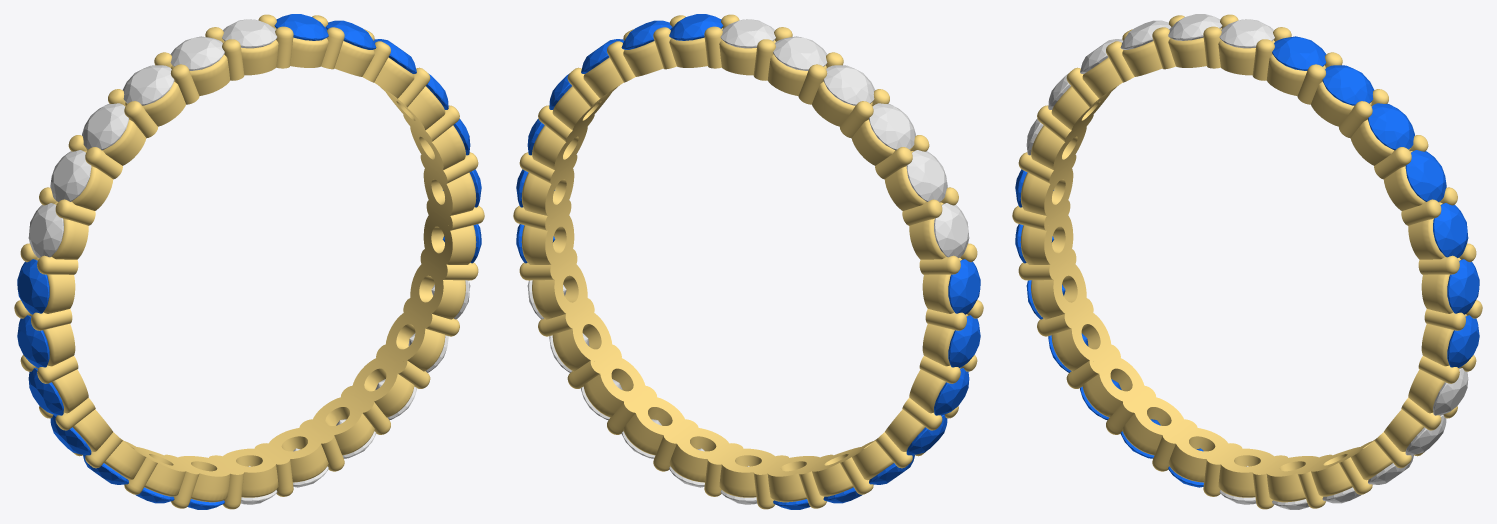
File: Allison_YG_sapph_dia_blender.glb
3 renders of one model, left to right at view 1: azimuth 30°, elevation 25°; view 2: azimuth 150°, elevation 25°; view 3: azimuth 330°, elevation 25°, orthographic.
Parts seen in each view (by area): view 1: Allison YG for 3d model, Allison dia for 3d model.002, Allison dia for 3d model.003, Allison dia for 3d model.001, Allison dia for 3d model.004, Allison dia for 3d model, Allison sapph for 3d model, Allison dia for 3d model.011, Allison sapph for 3d model.001, Allison sapph for 3d model.013, Allison sapph for 3d model.002, Allison sapph for 3d model.012 (+1 smaller); view 2: Allison YG for 3d model, Allison dia for 3d model.002, Allison dia for 3d model.003, Allison dia for 3d model.001, Allison dia for 3d model.004, Allison dia for 3d model, Allison sapph for 3d model, Allison dia for 3d model.011, Allison sapph for 3d model.001, Allison sapph for 3d model.013, Allison sapph for 3d model.002, Allison sapph for 3d model.012 (+1 smaller); view 3: Allison YG for 3d model, Allison sapph for 3d model.011, Allison sapph for 3d model.010, Allison sapph for 3d model.012, Allison sapph for 3d model.009, Allison sapph for 3d model.013, Allison sapph for 3d model.008, Allison dia for 3d model.011, Allison sapph for 3d model.007, Allison dia for 3d model, Allison dia for 3d model.010, Allison dia for 3d model.001 (+1 smaller).
Boxes of the visible parts, x1,y1,x2,y2 form: Allison YG for 3d model: (14,14,484,509); Allison dia for 3d model.002: (82,103,128,150); Allison dia for 3d model.003: (50,150,91,201); Allison dia for 3d model.001: (123,65,174,105); Allison dia for 3d model.004: (28,203,63,257); Allison dia for 3d model: (170,36,224,70); Allison sapph for 3d model: (17,259,49,314); Allison dia for 3d model.011: (222,19,277,48); Allison sapph for 3d model.001: (17,315,49,367); Allison sapph for 3d model.013: (274,14,328,40); Allison sapph for 3d model.002: (28,368,63,415); Allison sapph for 3d model.012: (325,20,376,49); Allison YG for 3d model: (513,14,983,509); Allison dia for 3d model.002: (869,103,915,150); Allison dia for 3d model.003: (906,150,947,201); Allison dia for 3d model.001: (823,65,874,105); Allison dia for 3d model.004: (934,203,969,257); Allison dia for 3d model: (773,36,827,70); Allison sapph for 3d model: (948,259,980,314); Allison dia for 3d model.011: (720,19,775,48); Allison sapph for 3d model.001: (948,315,980,367); Allison sapph for 3d model.013: (669,14,723,40); Allison sapph for 3d model.002: (934,368,969,415); Allison sapph for 3d model.012: (621,20,672,49); Allison YG for 3d model: (1012,14,1482,509); Allison sapph for 3d model.011: (1368,103,1414,150); Allison sapph for 3d model.010: (1405,150,1446,201); Allison sapph for 3d model.012: (1322,65,1373,105); Allison sapph for 3d model.009: (1433,203,1468,257); Allison sapph for 3d model.013: (1272,36,1326,70); Allison sapph for 3d model.008: (1447,259,1479,314); Allison dia for 3d model.011: (1219,19,1274,48); Allison sapph for 3d model.007: (1447,315,1479,367); Allison dia for 3d model: (1168,14,1222,40); Allison dia for 3d model.010: (1433,368,1468,415); Allison dia for 3d model.001: (1120,20,1171,49).
Size of the model in its own units: 21.56 by 21.58 by 2.49.
